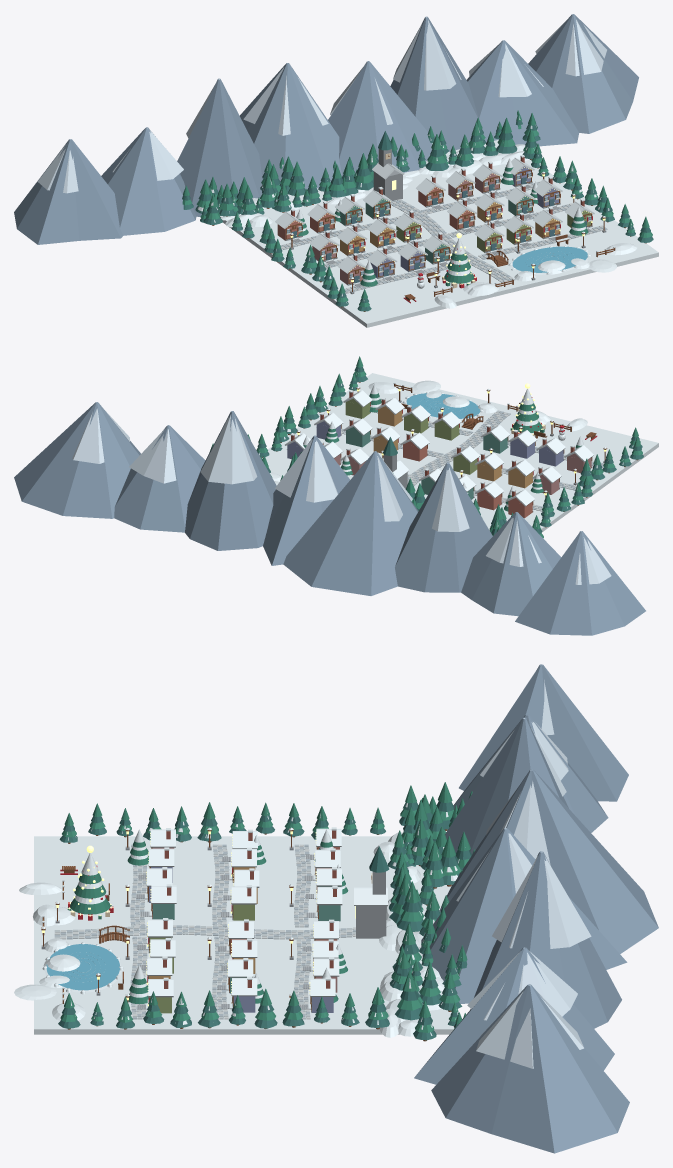
File: winterdorf.glb
3 views of the same model, one above another, from view 1: azimuth 30°, elevation 25°; view 2: azimuth 150°, elevation 25°; view 3: azimuth 270°, elevation 25° (orthographic). The views are drawn at different scales.
Visible parts, largest first — view 1: Alpine mountains, Snowy village ground, Layered firs.001, Snow-covered peaks, Layered firs, Rolling snowdrifts, Oval skating rink, Cobbled lanes.001, Cobbled lanes, Cobbled lanes.002, Chapel stone walls, Winding main street (+3 smaller); view 2: Alpine mountains, Snow-covered peaks, Snowy village ground, Layered firs.001, Layered firs, Rolling snowdrifts, Oval skating rink, Winding main street.002, Winding main street, Winding main street.001; view 3: Alpine mountains, Snowy village ground, Layered firs.001, Snow-covered peaks, Layered firs, Rolling snowdrifts, Cobbled lanes.001, Cobbled lanes, Cobbled lanes.002, Oval skating rink, Chapel stone walls, Winding main street (+3 smaller).
Part boxes in pixels (left/top/right/bottom): Alpine mountains: left=14, top=14, right=638, bottom=244; Snowy village ground: left=220, top=139, right=658, bottom=327; Layered firs.001: left=182, top=110, right=652, bottom=307; Snow-covered peaks: left=37, top=14, right=606, bottom=193; Layered firs: left=182, top=120, right=653, bottom=311; Rolling snowdrifts: left=221, top=144, right=637, bottom=308; Oval skating rink: left=512, top=246, right=587, bottom=272; Cobbled lanes.001: left=281, top=181, right=603, bottom=293; Cobbled lanes: left=282, top=182, right=605, bottom=293; Cobbled lanes.002: left=280, top=183, right=607, bottom=291; Chapel stone walls: left=373, top=170, right=402, bottom=200; Winding main street: left=390, top=200, right=515, bottom=282; Alpine mountains: left=14, top=402, right=645, bottom=635; Snow-covered peaks: left=72, top=402, right=611, bottom=584; Snowy village ground: left=262, top=373, right=658, bottom=532; Layered firs.001: left=209, top=356, right=642, bottom=538; Layered firs: left=257, top=366, right=643, bottom=534; Rolling snowdrifts: left=270, top=380, right=587, bottom=485; Oval skating rink: left=406, top=393, right=480, bottom=418; Winding main street.002: left=407, top=411, right=506, bottom=485; Winding main street: left=407, top=410, right=510, bottom=483; Winding main street.001: left=407, top=412, right=508, bottom=484; Alpine mountains: left=414, top=664, right=658, bottom=1153; Snowy village ground: left=34, top=836, right=454, bottom=1034; Layered firs.001: left=60, top=782, right=475, bottom=1032; Snow-covered peaks: left=456, top=680, right=591, bottom=1068; Layered firs: left=58, top=801, right=471, bottom=1040; Rolling snowdrifts: left=14, top=832, right=444, bottom=1037; Cobbled lanes.001: left=130, top=844, right=311, bottom=1019; Cobbled lanes: left=130, top=844, right=310, bottom=1019; Cobbled lanes.002: left=130, top=844, right=311, bottom=1019; Oval skating rink: left=46, top=944, right=119, bottom=990; Chapel stone walls: left=356, top=906, right=386, bottom=938; Winding main street: left=54, top=925, right=355, bottom=939.
Bounding box in the file's own units: 83.15 × 14.88 × 55.13.
